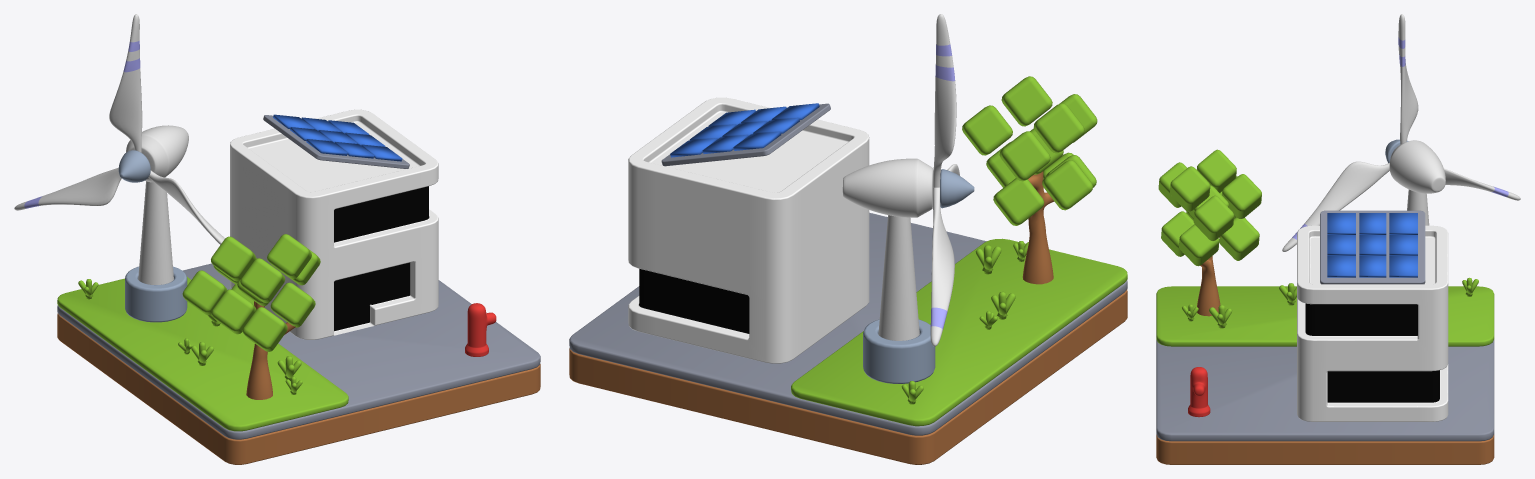
The model's file is green.glb.
3 renders of one model, left to right at view 1: azimuth 30°, elevation 25°; view 2: azimuth 150°, elevation 25°; view 3: azimuth 270°, elevation 25°, orthographic. The views are drawn at different scales.
Parts seen in each view (by area): view 1: House, Sidewalk, Grass, Ground, Plane.002, Plane.005, Circle.004, Circle.007, Circle.005, Cube.008, Cube.004, Cube.010 (+8 smaller); view 2: House, Grass, Sidewalk, Ground, Plane.002, Circle.005, Circle.004, Plane.005, Circle.007, Tree, Plane.004, Cube.009 (+8 smaller); view 3: House, Sidewalk, Grass, Ground, Plane.005, Plane.002, Plane.004, Circle.005, Cube.009, Cube.010, Cube.006, Cube.003 (+7 smaller).
Boxes of the visible parts, x1,y1,x2,y2 form: House: (230,109,438,339); Sidewalk: (57,263,540,439); Grass: (57,277,348,431); Ground: (57,313,540,464); Plane.002: (14,14,224,244); Plane.005: (273,114,402,161); Circle.004: (138,177,173,284); Circle.007: (125,266,187,322); Circle.005: (126,125,188,182); Cube.008: (240,258,285,303); Cube.004: (270,282,315,327); Cube.010: (267,234,311,278); House: (628,97,869,363); Grass: (791,238,1127,426); Sidewalk: (569,212,1127,435); Ground: (569,289,1127,464); Plane.002: (930,14,959,346); Circle.005: (842,158,933,217); Circle.004: (878,215,919,340); Plane.005: (670,103,819,157); Circle.007: (863,319,935,383); Tree: (1022,171,1054,284); Plane.004: (661,103,830,166); Cube.009: (962,105,1012,155); House: (1297,225,1448,421); Sidewalk: (1156,339,1494,441); Grass: (1156,286,1494,346); Ground: (1156,434,1494,464); Plane.005: (1327,213,1417,277); Plane.002: (1282,14,1520,251); Plane.004: (1320,210,1425,284); Circle.005: (1389,140,1445,193); Cube.009: (1193,195,1234,241); Cube.010: (1170,166,1210,211); Cube.006: (1222,174,1261,218); Cube.003: (1219,217,1259,260).
Size of the model in its own units: 8.6 by 8.49 by 8.63.
